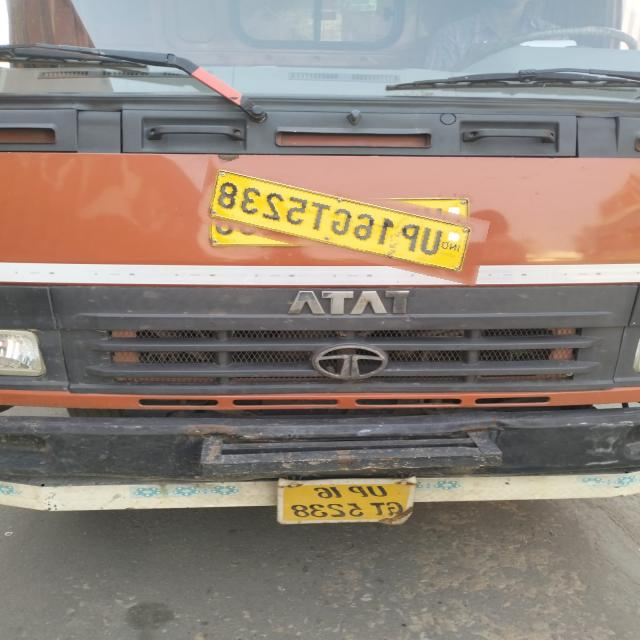License-plate: (196, 172, 488, 271)
